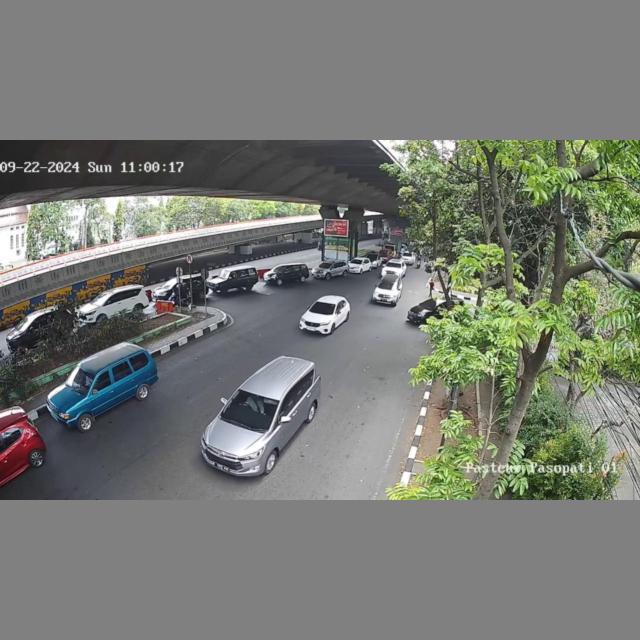windshield: (220, 389, 279, 431), (67, 367, 95, 390), (310, 302, 334, 313), (376, 281, 396, 290)
